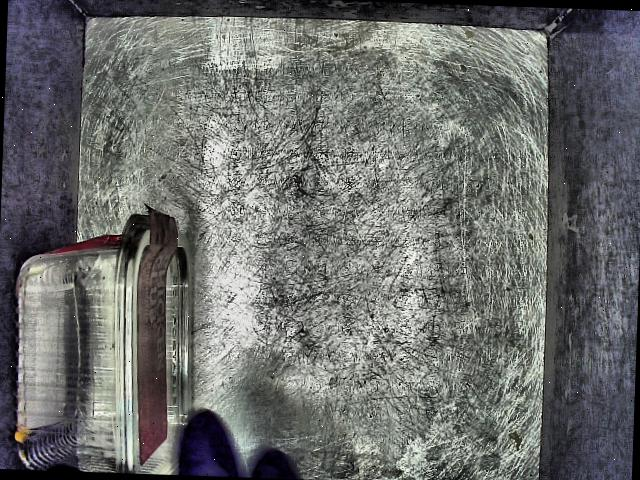Plastic: (22, 207, 196, 476)
